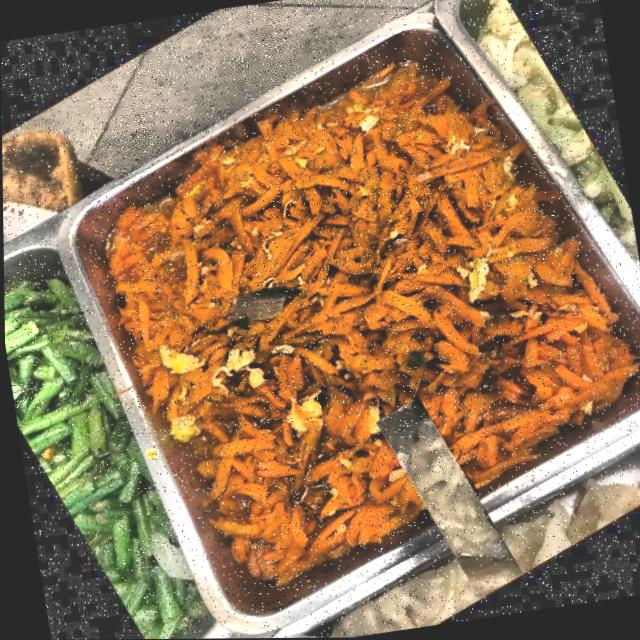Food: (52, 15, 640, 615), (333, 418, 598, 636)
